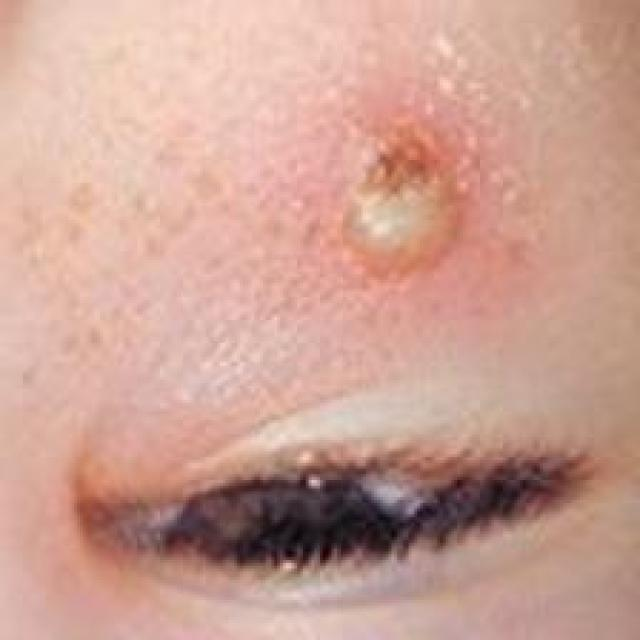others: (12, 9, 624, 640)
